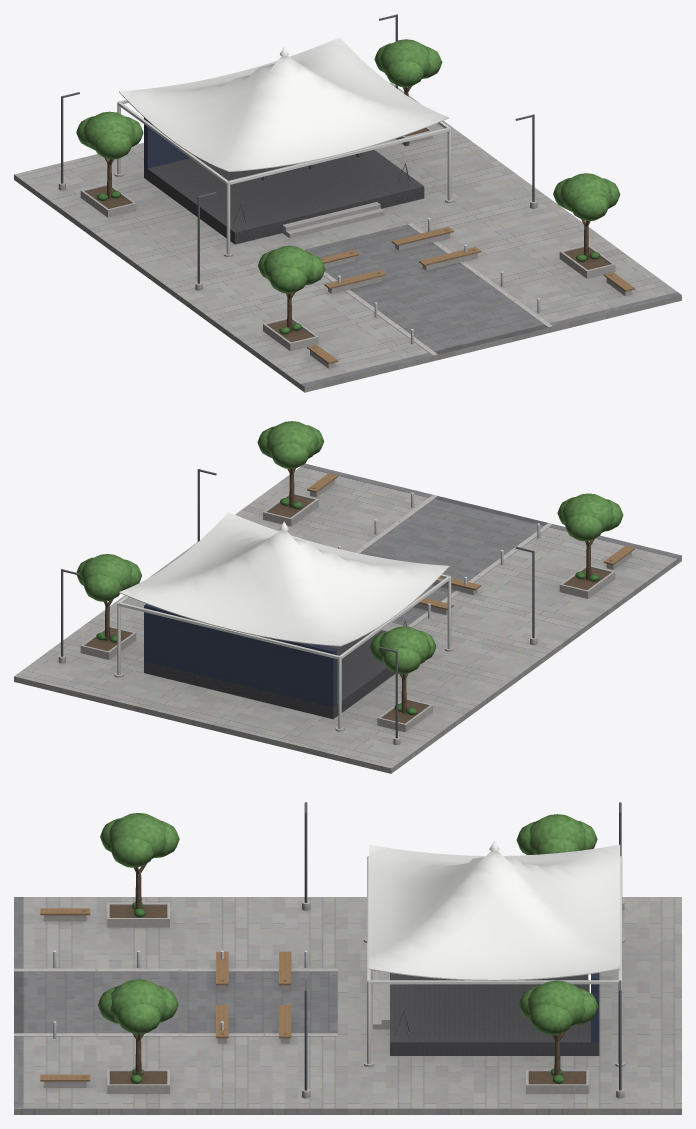
File: IlsanPlazaStage_LOD1.fbx
The picture shows the model from 3 angles, top to bottom: view 1: azimuth 30°, elevation 25°; view 2: azimuth 150°, elevation 25°; view 3: azimuth 270°, elevation 25°; orthographic projection. The views are drawn at different scales.
Parts seen in each view (by area): view 1: IlsanPlazaStage_LOD1; view 2: IlsanPlazaStage_LOD1; view 3: IlsanPlazaStage_LOD1.
Boxes of the visible parts, left/top/right/bottom form: IlsanPlazaStage_LOD1: left=14, top=14, right=681, bottom=392; IlsanPlazaStage_LOD1: left=14, top=421, right=681, bottom=773; IlsanPlazaStage_LOD1: left=14, top=802, right=681, bottom=1114.
Bounding box in the file's own units: 23.9 × 8.9 × 31.9.
Materials: 1 (1 with a texture image).
